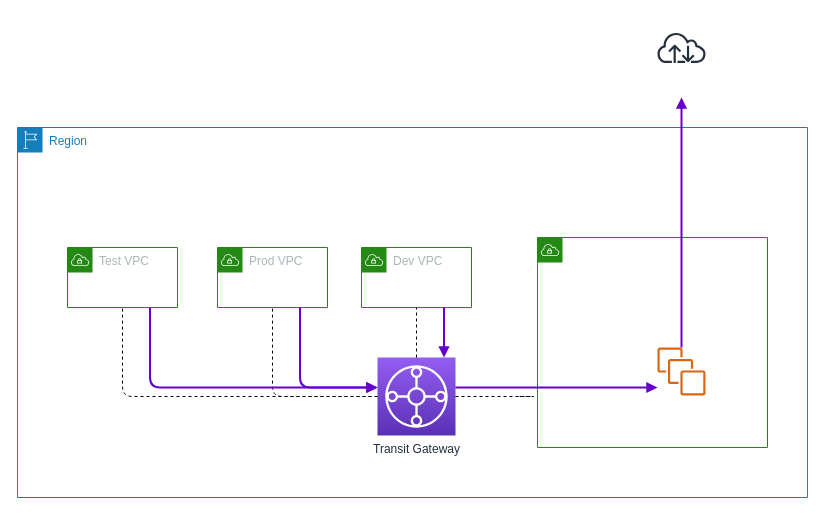
This 825x515 diagram has some shape labels left out. Each missing label, with the box of its shape:
Egress Traffic Appliances: (657, 347, 705, 395)
Internet: (650, 16, 712, 78)
Transit VPC: (536, 236, 768, 448)
